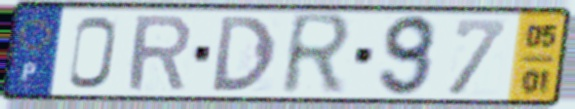0: (67, 14, 121, 90)
7: (451, 16, 510, 98)
9: (375, 12, 438, 100)
D: (210, 14, 279, 95)
R: (278, 10, 358, 99), (125, 12, 194, 94)
